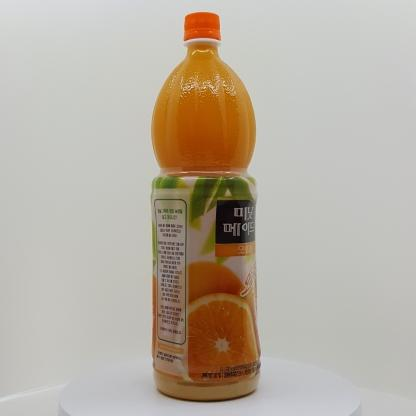-----------1-5L: (150, 12, 261, 401)
